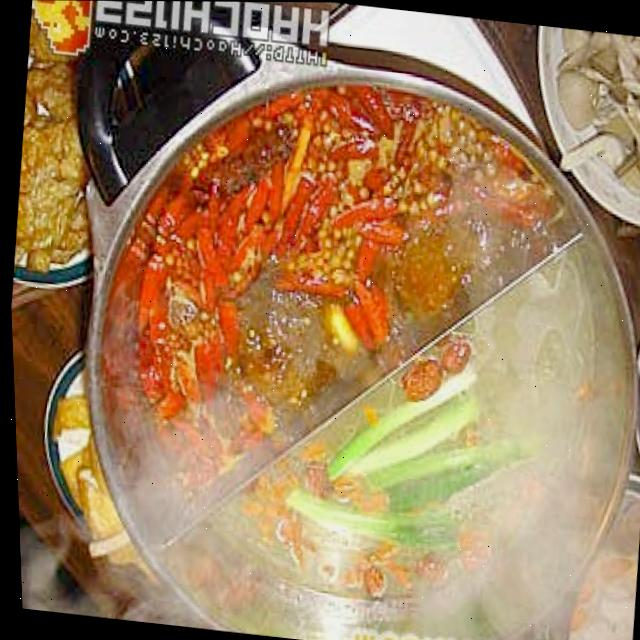汤锅炖物: (45, 30, 640, 640)
